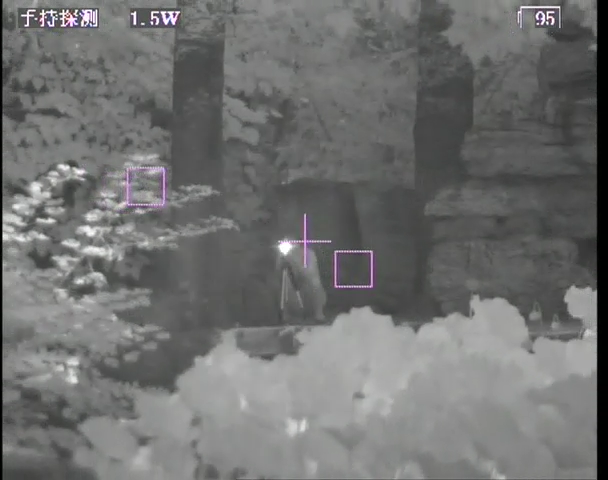my: (274, 239, 293, 257)
